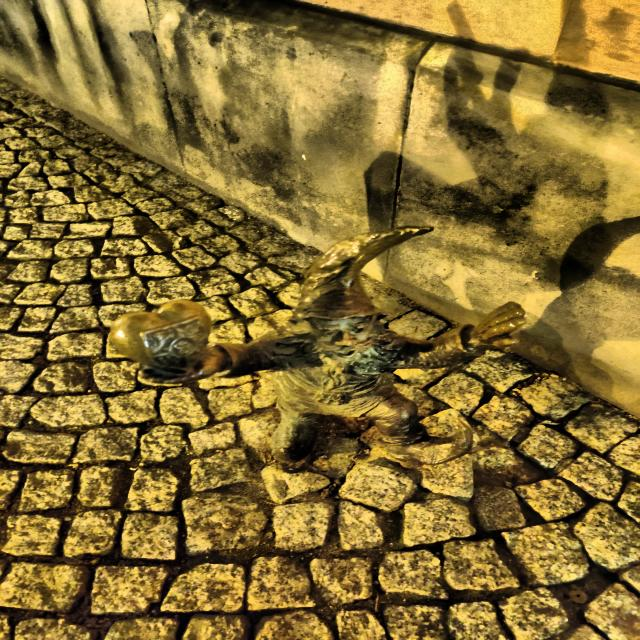WrocLovek: (97, 215, 529, 478)
